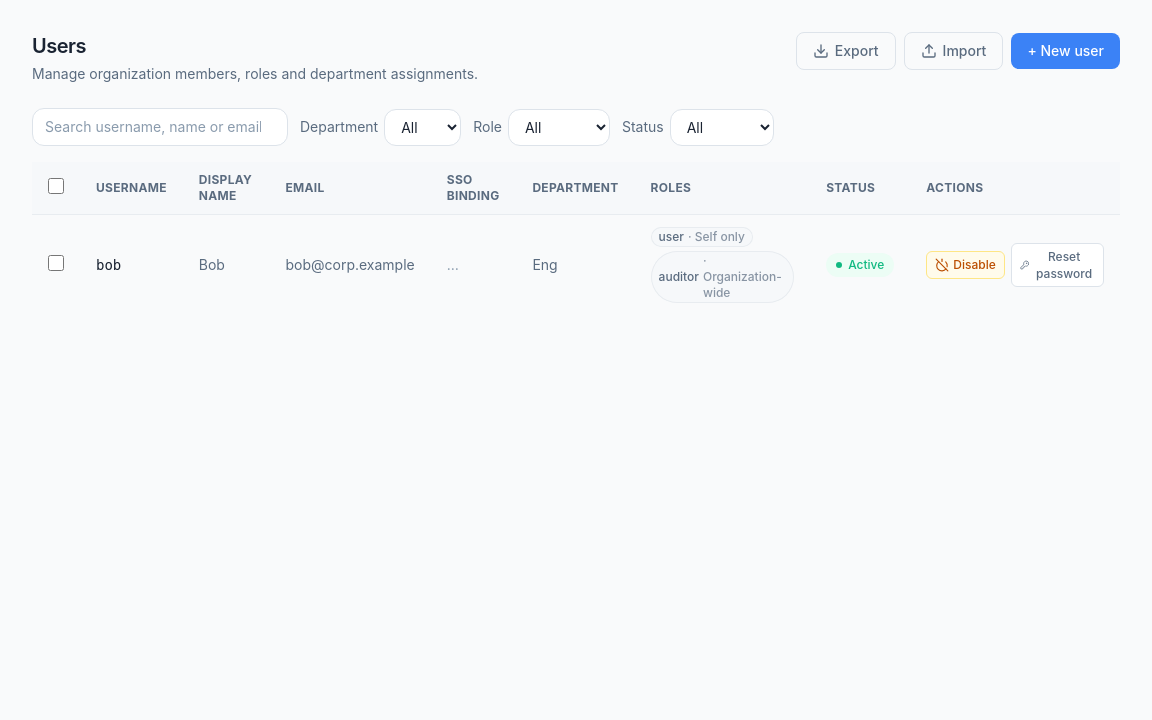
Scenario: pages/UsersPage › batch reset POSTs the action and surfaces the returned temp passwords
This screenshot has width=1152, height=720.
Expected: the text "bob" is shown, [96, 257, 121, 273]
Click the checkbox named "bob": (56, 262) [48, 254, 64, 270]
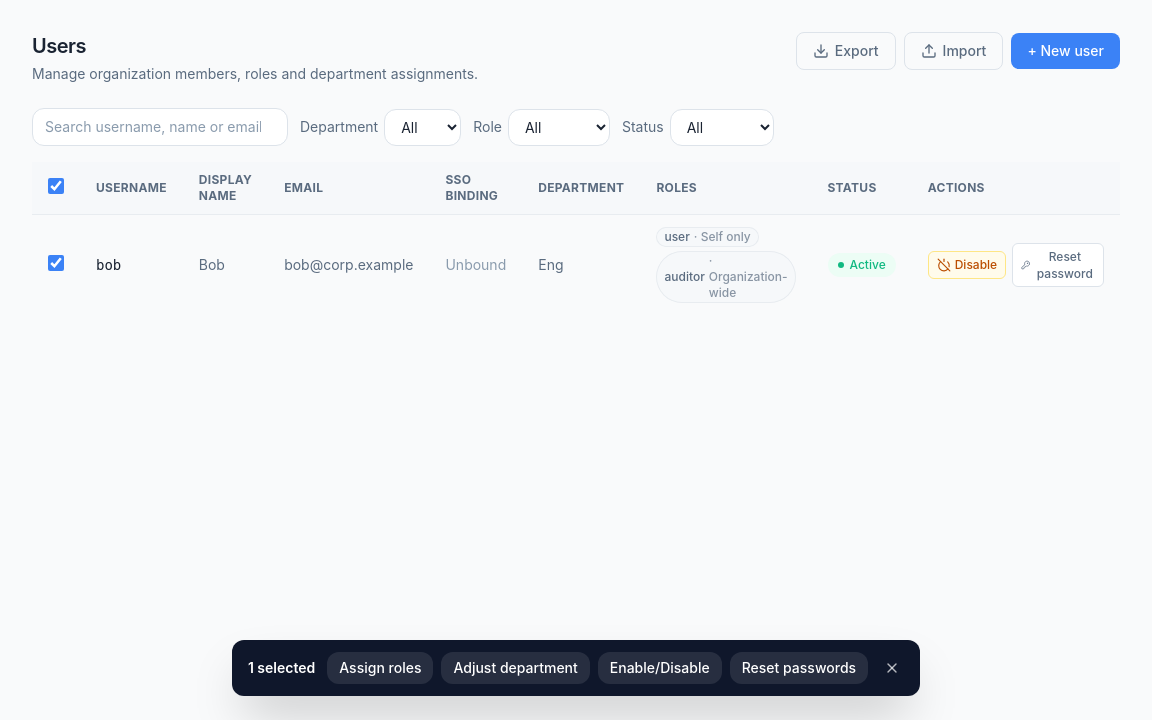
Expected: the text "1 selected" is shown, [248, 658, 315, 678]
Click the button "Reset passwords": (799, 668) [730, 652, 868, 684]
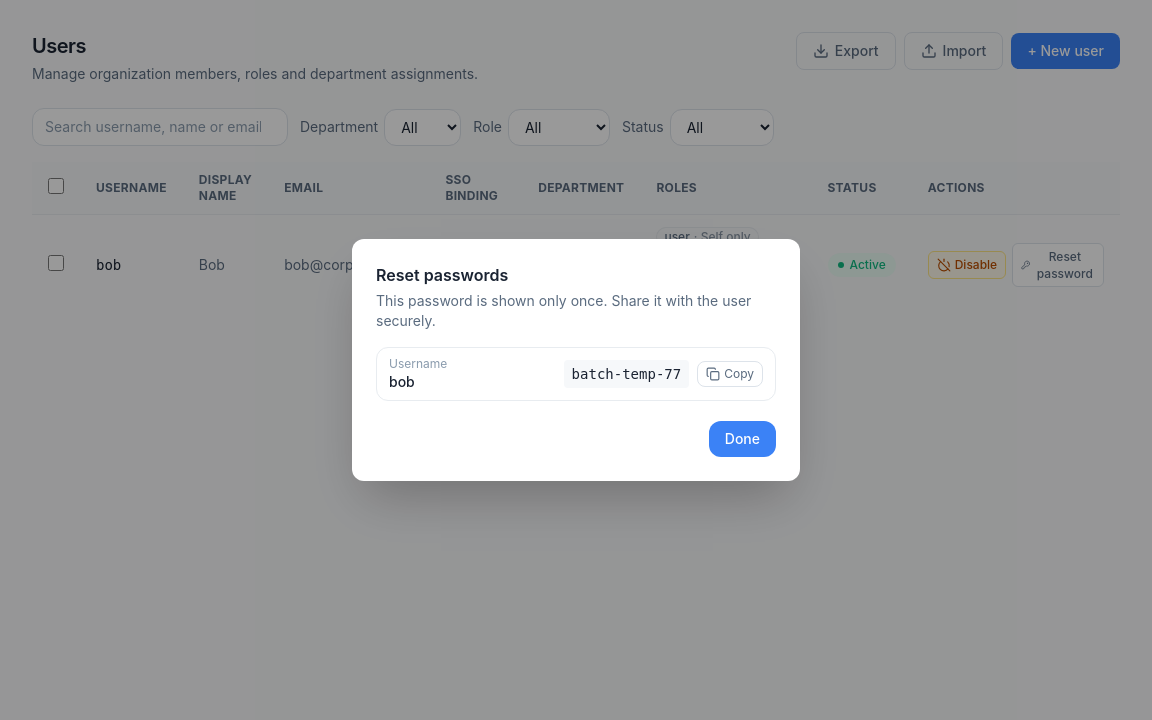
Expected: the text "batch-temp-77" is shown, [564, 360, 689, 388]
